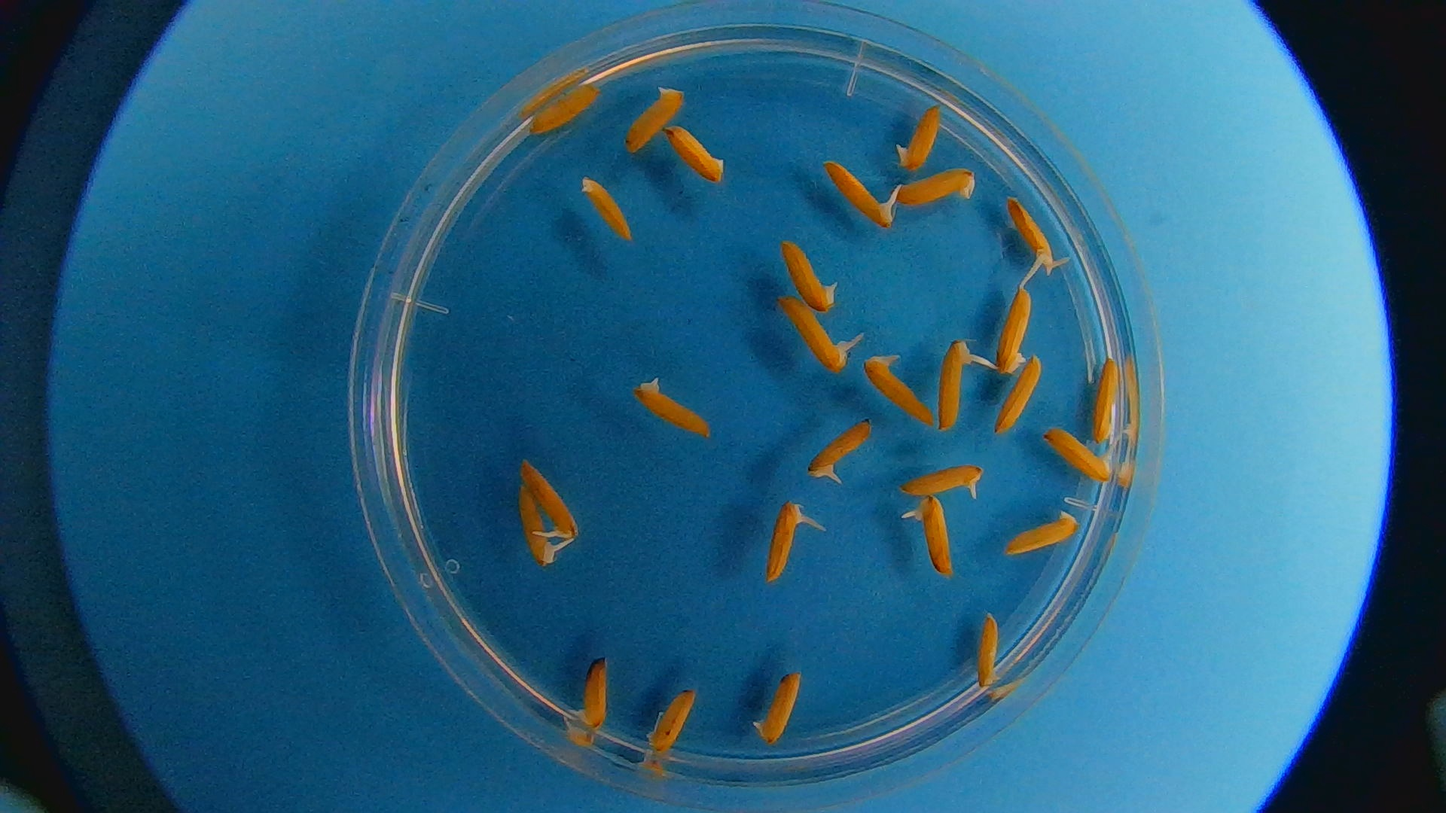no: (524, 81, 602, 139), (625, 82, 686, 156), (630, 384, 709, 437), (993, 352, 1041, 439), (645, 685, 698, 760), (665, 124, 731, 184), (578, 172, 633, 244), (894, 96, 943, 172), (752, 671, 802, 745), (897, 166, 983, 206), (995, 287, 1031, 375), (1003, 513, 1076, 556), (977, 607, 1008, 692), (1092, 358, 1121, 448)
yes: (820, 156, 896, 233), (776, 294, 850, 373), (867, 354, 935, 425), (1002, 193, 1056, 269), (807, 419, 874, 480), (1045, 427, 1116, 484), (523, 462, 573, 540), (782, 239, 835, 309), (896, 462, 986, 502), (937, 339, 975, 432), (764, 498, 804, 585), (917, 495, 957, 577), (517, 489, 557, 566), (575, 653, 609, 731)
